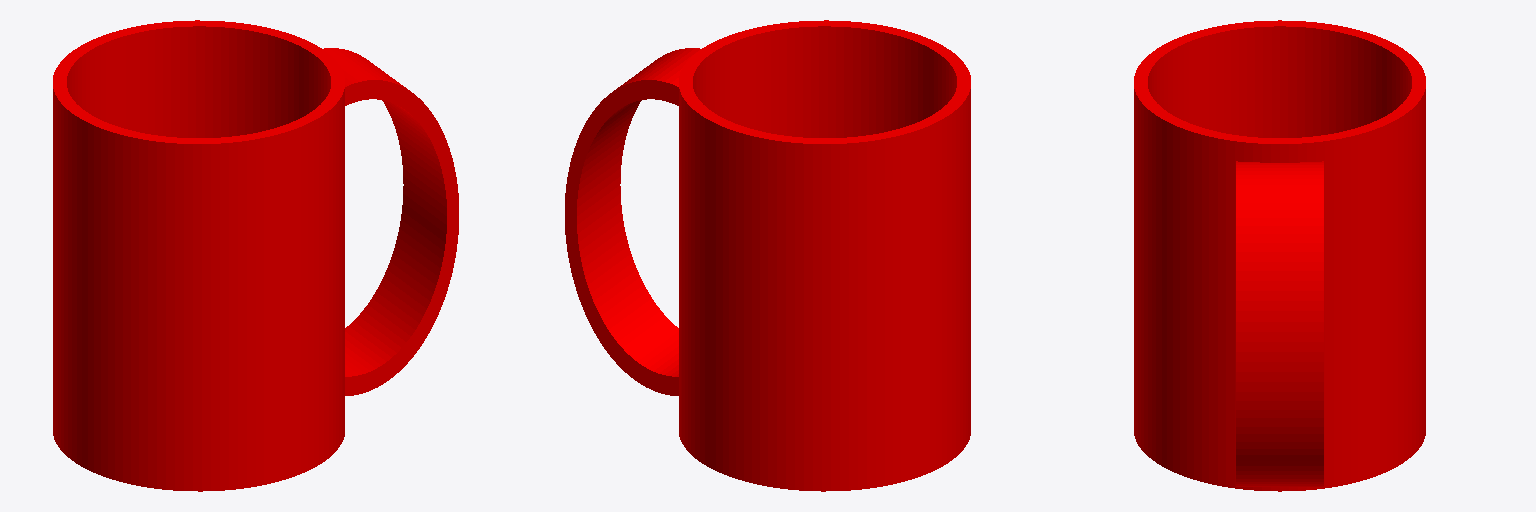
robot.urdf — mug.urdf:
<?xml version="1.0" ?>
<robot name="mug.urdf">
  <link name="baseLink">
    <inertial>
      <origin rpy="0 0 0" xyz="0 0 0"/>
       <mass value=".1"/>
       <inertia ixx="1" ixy="0" ixz="0" iyy="1" iyz="0" izz="1"/>
    </inertial>
    <visual>
      <origin rpy="0 0 0" xyz="0 0 0"/>
      <geometry>
        <mesh filename="12.stl" scale="1 1 1" />
      </geometry>
      <material name="red">
        <color rgba="1 0 0 1"/>
      </material>
    </visual>
    <collision>
      <origin rpy="0 0 0" xyz="0 0 0"/>
      <geometry>
        <mesh filename="12_convex.obj" scale="1 1 1" />
      </geometry>
    </collision>
  </link>
</robot>

--- What the picture shows (computed from the rendered views, not written in the file) ---
3 views of the same robot in one strip: view 1: azimuth 30°, elevation 25°; view 2: azimuth 150°, elevation 25°; view 3: azimuth 270°, elevation 25° (orthographic).
Robot: mug.urdf — 1 links, 0 joints (none); root link baseLink; default pose: all joints at 0.
Links seen in each view (by area): view 1: baseLink; view 2: baseLink; view 3: baseLink.
Boxes of the visible links, box(x1,y1,x2,y2) form: baseLink: box(53, 20, 458, 491); baseLink: box(565, 20, 970, 491); baseLink: box(1134, 20, 1425, 491).
Bounding box of the posed robot: 0.15 × 0.1041 × 0.1362 m (x, y, z).
Meshes: 1 distinct files referenced, 1 mesh visuals loaded (1 binary STL).